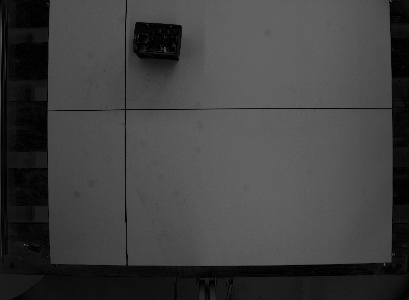kltxs: (131, 18, 185, 62)
